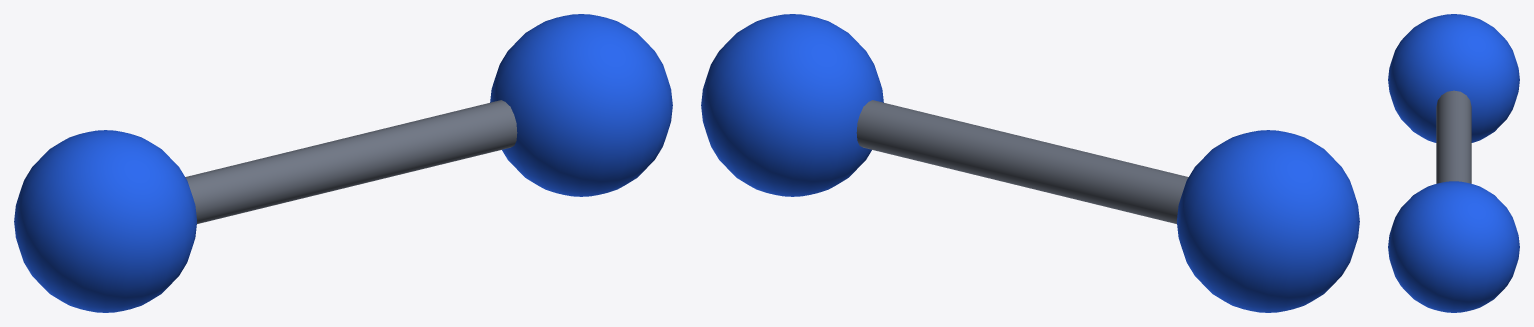
3 renders of one model, left to right at view 1: azimuth 30°, elevation 25°; view 2: azimuth 150°, elevation 25°; view 3: azimuth 270°, elevation 25°, orthographic. The views are drawn at different scales.
Visible parts, largest first — view 1: H1, H2, object 3; view 2: H1, H2, object 3; view 3: H2, H1, object 3.
Part boxes in pixels (left/top/right/bottom): H1: left=14, top=130, right=196, bottom=312; H2: left=490, top=14, right=672, bottom=196; object 3: left=185, top=100, right=517, bottom=223; H1: left=1177, top=130, right=1359, bottom=312; H2: left=701, top=14, right=883, bottom=196; object 3: left=856, top=100, right=1188, bottom=223; H2: left=1388, top=181, right=1519, bottom=312; H1: left=1388, top=14, right=1519, bottom=142; object 3: left=1436, top=90, right=1471, bottom=183.
Bounding box in the file's own units: 0.24 × 0.06 × 0.06.
